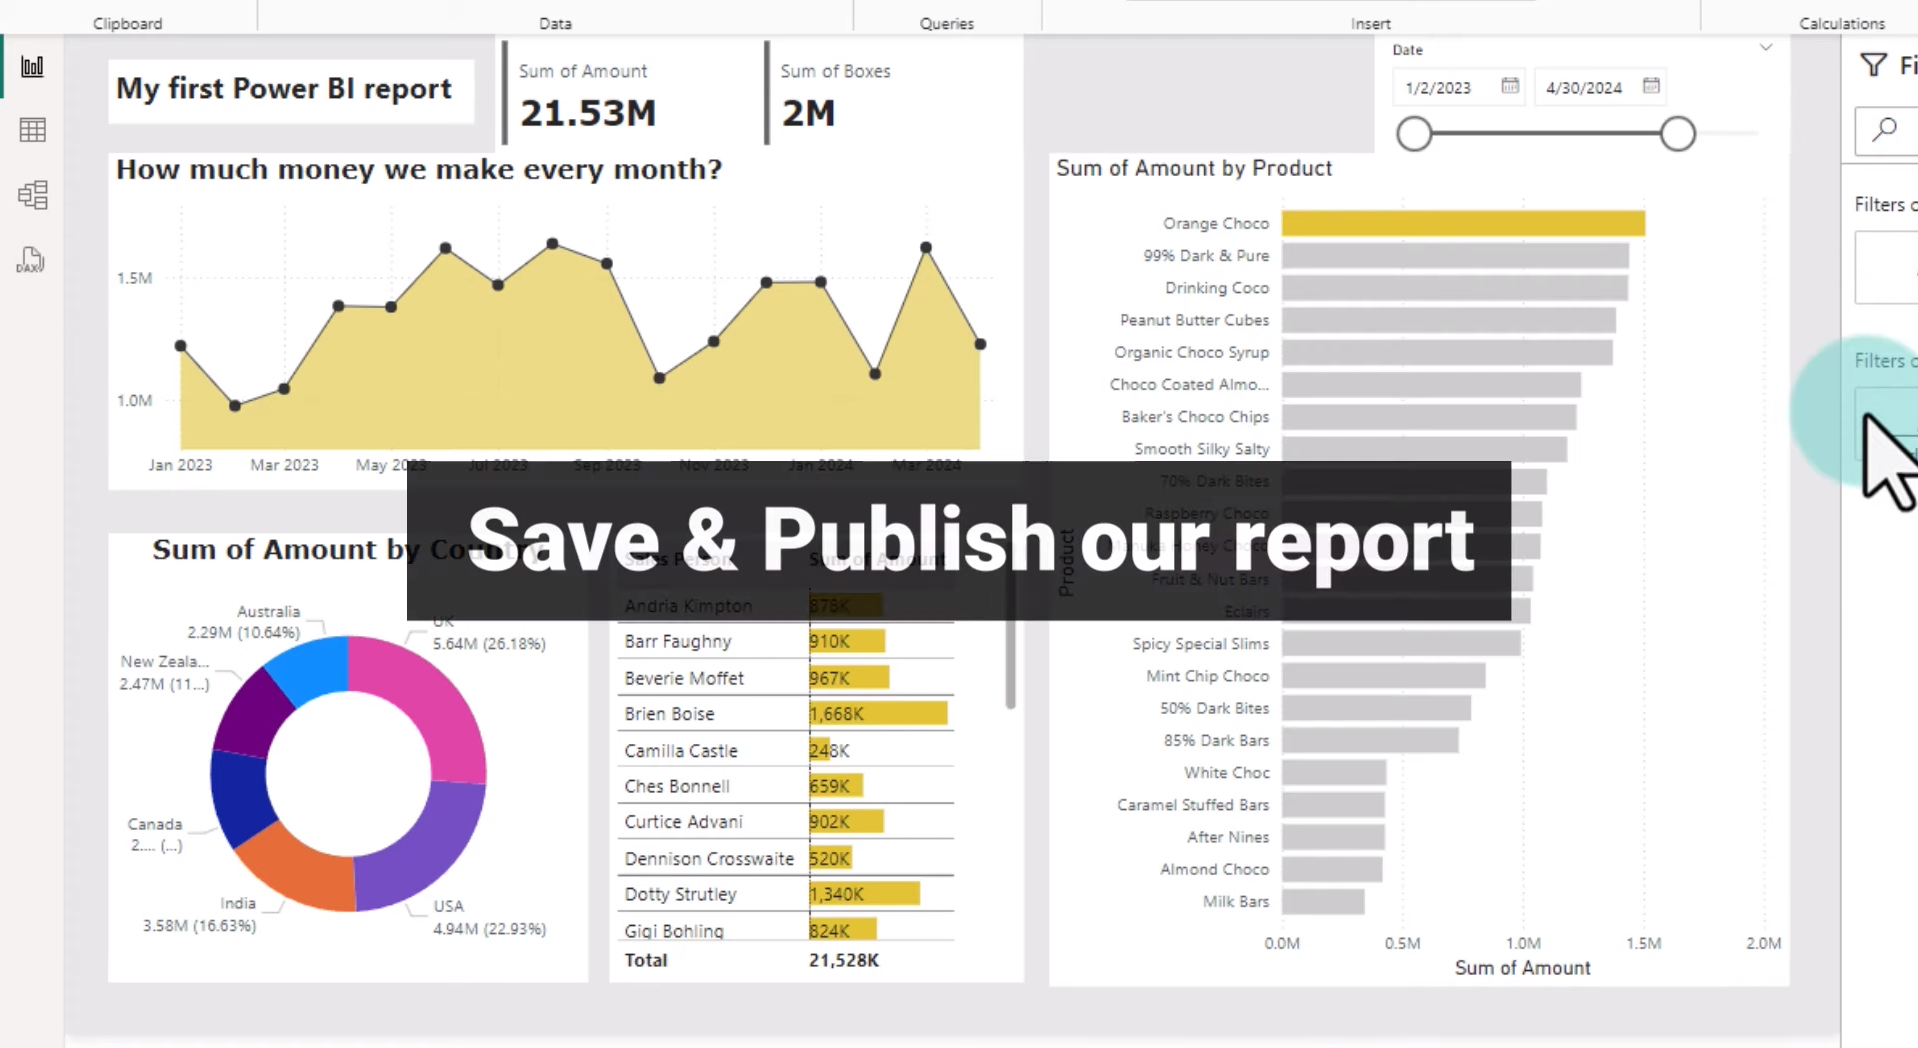

The dashboard page shown, as its layout file describes it:
{"tool":"powerbi","page":{"name":"Page 2","canvas":[1280,720],"ordinal":1},"visuals":[{"type":"lineChart","fields":{"Category":["data.Date.Variation.Date Hierarchy.Year","data.Date.Variation.Date Hierarchy.Quarter","data.Date.Variation.Date Hierarchy.Month","data.Date.Variation.Date Hierarchy.Day"],"Y":["Sum(data.Amount)"]},"box":[0,103.8,790,282.5],"z":0},{"type":"donutChart","fields":{"Category":["data.Country"],"Y":["Sum(data.Amount)"]},"box":[18.8,395,405,312.5],"z":1000},{"type":"tableEx","fields":{"Values":["data.Sales Person","Sum(data.Amount)"]},"box":[455,395,335,325],"z":2000},{"type":"clusteredBarChart","fields":{"Category":["data.Product"],"Y":["Sum(data.Amount)"]},"box":[808.8,103.8,471.2,616.2],"z":3000},{"type":"cardVisual","fields":{"Data":["Sum(data.Amount)","Sum(data.Boxes)"]},"box":[346.2,0,443.8,103.8],"z":4000},{"type":"slicer","fields":{"Values":["data.Date"]},"box":[808.8,5,471.2,90],"z":5000},{"type":"textbox","box":[8.8,5,327.5,63.8],"z":6000}]}

Visuals, with their boxes on the page's 1280x720 design canvas (x1, y1, x2, y2). These are canvas units, not pixel positions in the 1918x1048 screenshot, which may show the page scaled, cropped or inside an application window:
lineChart - data.Date.Variation.Date Hierarchy.Year x data.Date.Variation.Date Hierarchy.Quarter: x1=0 y1=104 x2=790 y2=386
donutChart - data.Country x Sum(data.Amount): x1=19 y1=395 x2=424 y2=708
tableEx - data.Sales Person x Sum(data.Amount): x1=455 y1=395 x2=790 y2=720
clusteredBarChart - data.Product x Sum(data.Amount): x1=809 y1=104 x2=1280 y2=720
cardVisual - Sum(data.Amount) x Sum(data.Boxes): x1=346 y1=0 x2=790 y2=104
slicer - data.Date: x1=809 y1=5 x2=1280 y2=95
textbox: x1=9 y1=5 x2=336 y2=69
